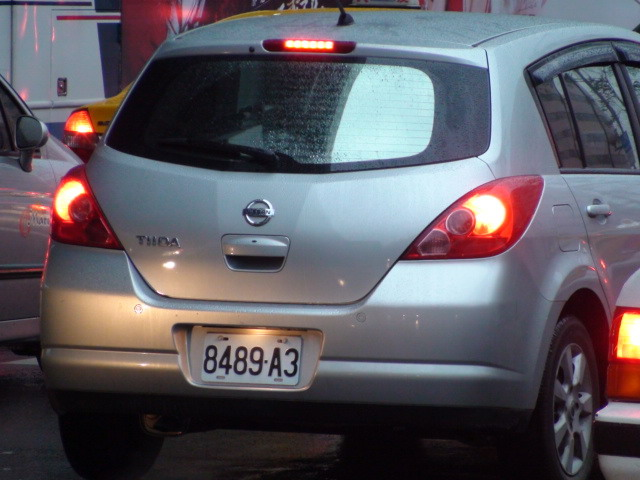plate: (200, 330, 303, 386)
